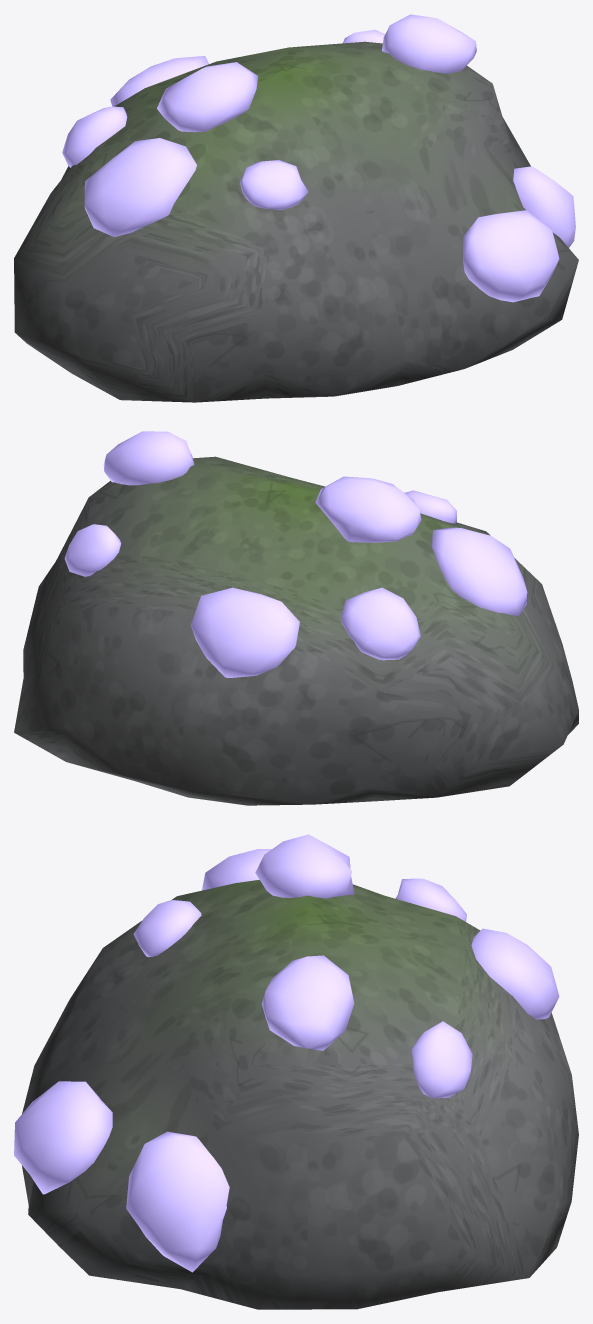
The model's file is ore_iridium_boulder.glb.
3 views of the same model, one above another, from view 1: azimuth 30°, elevation 25°; view 2: azimuth 150°, elevation 25°; view 3: azimuth 270°, elevation 25° (orthographic). The views are drawn at different scales.
Parts seen in each view (by area): view 1: ore_iridium_stone, ore_iridium; view 2: ore_iridium_stone, ore_iridium; view 3: ore_iridium_stone, ore_iridium.
Boxes of the visible parts, x1,y1,x2,y2 form: ore_iridium_stone: (14, 41, 578, 402); ore_iridium: (62, 14, 575, 302); ore_iridium_stone: (14, 456, 578, 805); ore_iridium: (64, 431, 527, 677); ore_iridium_stone: (22, 880, 578, 1309); ore_iridium: (14, 834, 559, 1272).
Size of the model in its own units: 2.3 by 1.12 by 1.87.
Materials: 2 (1 with a texture image).
